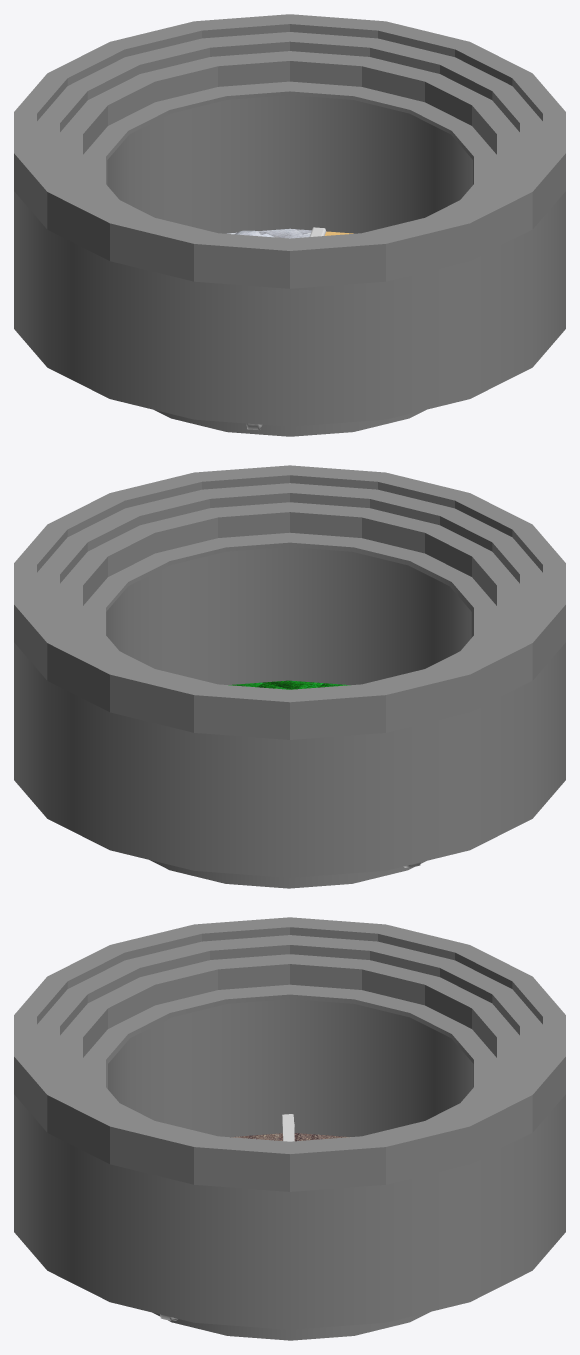
File: Arena Improved.FBX
3 views of the same model, one above another, from view 1: azimuth 30°, elevation 25°; view 2: azimuth 150°, elevation 25°; view 3: azimuth 270°, elevation 25° (orthographic).
Parts seen in each view (by area): view 1: Spectators Stand, Inner Wall, Enviromental Area; view 2: Spectators Stand, Inner Wall, Enviromental Area; view 3: Spectators Stand, Inner Wall, Enviromental Area.
Boxes of the visible parts, x1=… form: Spectators Stand: x1=14, y1=14, x2=565, y2=426; Inner Wall: x1=107, y1=95, x2=472, y2=436; Enviromental Area: x1=227, y1=228, x2=353, y2=238; Spectators Stand: x1=14, y1=465, x2=565, y2=877; Inner Wall: x1=106, y1=547, x2=471, y2=888; Enviromental Area: x1=228, y1=680, x2=350, y2=689; Spectators Stand: x1=14, y1=917, x2=565, y2=1329; Inner Wall: x1=108, y1=999, x2=473, y2=1340; Enviromental Area: x1=230, y1=1133, x2=350, y2=1141.
Size of the model in its own units: 7009 by 3121 by 6902.
2 materials, 1 textured.
